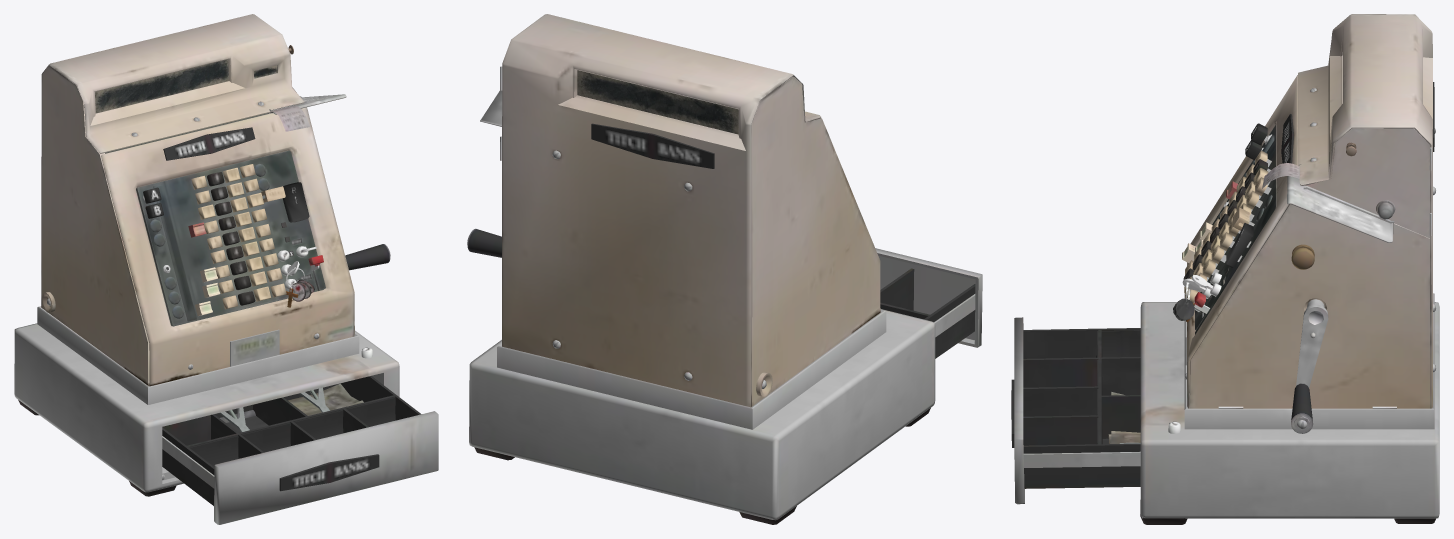
Rendered from CashRegister_01.glb.
3 renders of one model, left to right at view 1: azimuth 30°, elevation 25°; view 2: azimuth 150°, elevation 25°; view 3: azimuth 270°, elevation 25°, orthographic. The views are drawn at different scales.
Parts seen in each view (by area): view 1: CashRegister_01_body, CashRegister_011_drawer; view 2: CashRegister_01_body, CashRegister_011_drawer; view 3: CashRegister_01_body, CashRegister_011_drawer.
Boxes of the visible parts, x1,y1,x2,y2 form: CashRegister_01_body: [14, 14, 399, 496]; CashRegister_011_drawer: [162, 376, 438, 524]; CashRegister_01_body: [467, 14, 935, 524]; CashRegister_011_drawer: [875, 248, 982, 358]; CashRegister_01_body: [1140, 14, 1439, 524]; CashRegister_011_drawer: [1011, 317, 1140, 504].
Size of the model in its own units: 0.6005 by 0.6211 by 0.6242.
2 materials, 2 textured.
